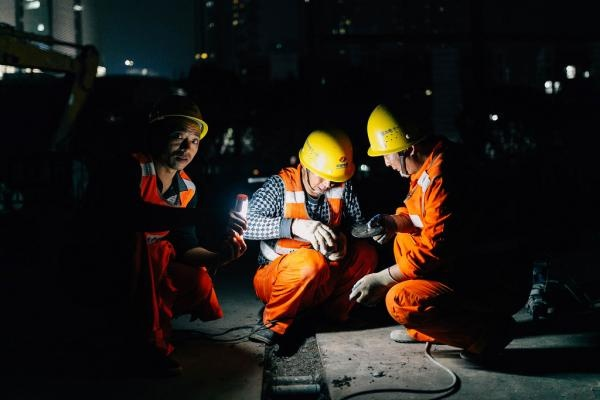yellow: (365, 96, 434, 177), (142, 95, 205, 166), (298, 127, 354, 195)
